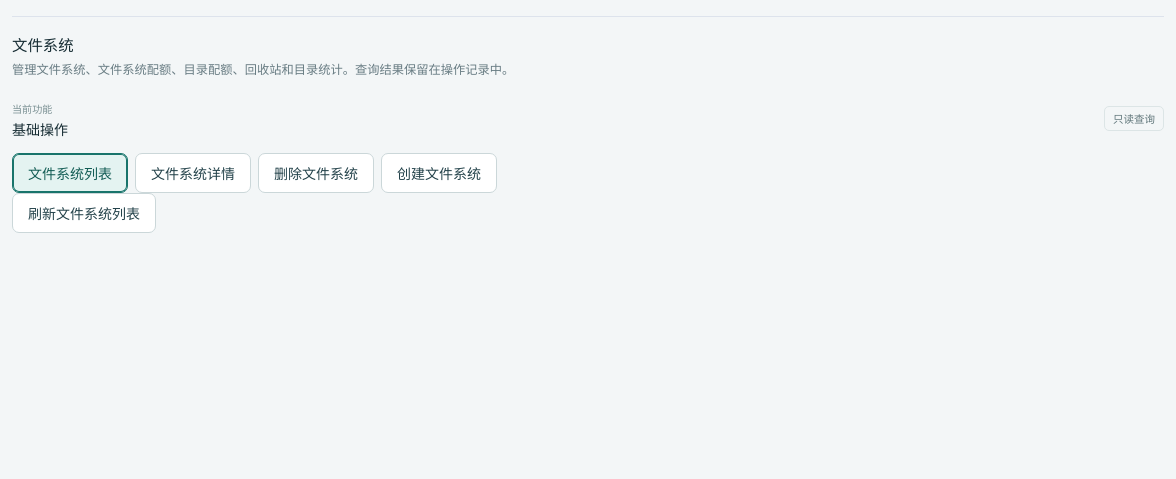
Scenario: empty and failed results block deletion and allow refresh
Click the button "删除文件系统".
click(316, 173)  # box [258,153,374,193]
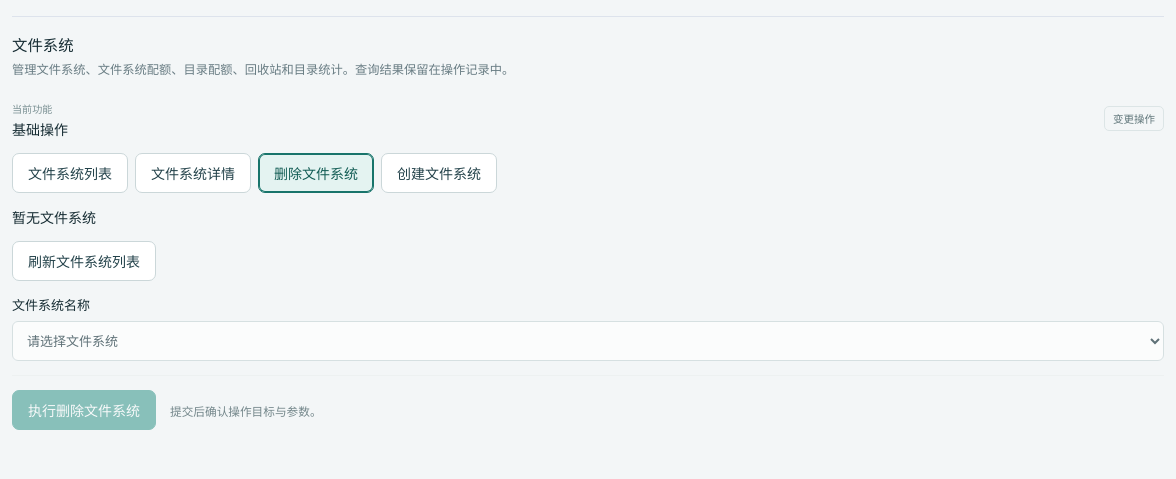
Expected: the text "暂无文件系统" is shown, [12,209,96,226]
Expected: the button "执行删除文件系统" is disabled, [12,390,156,430]
Click the button "刷新文件系统列表".
click(84, 261)  # box [12,241,156,281]
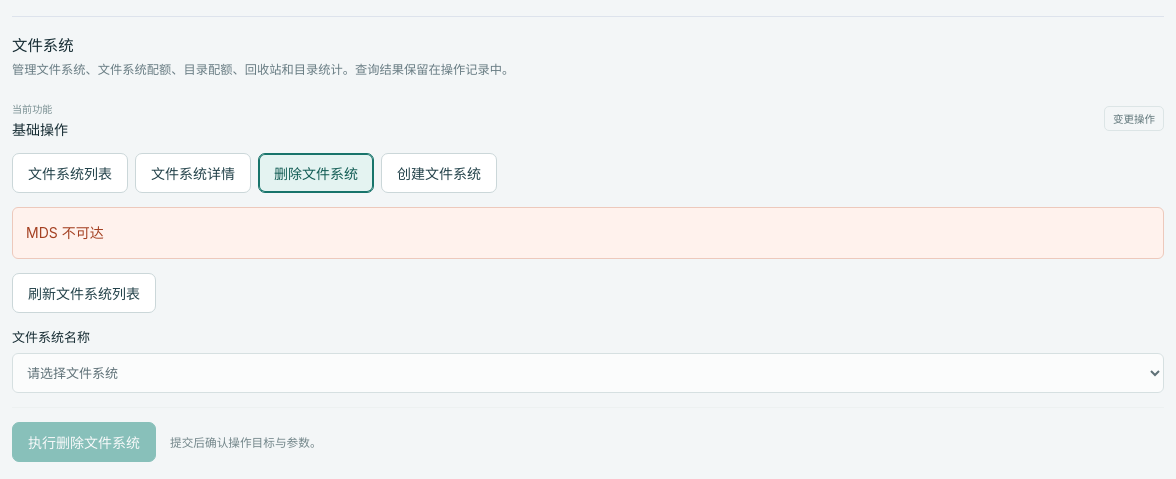
Expected: the button "执行删除文件系统" is disabled, [12,422,156,462]
Expected: the text "MDS 不可达" is shown, [12,207,1164,259]
